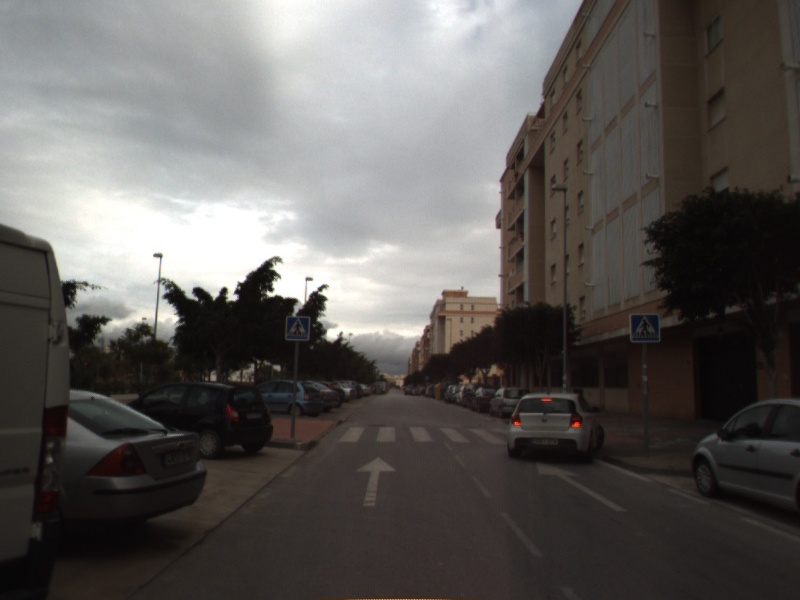STRAIGHT: (535, 460, 630, 513), (354, 455, 399, 508)
